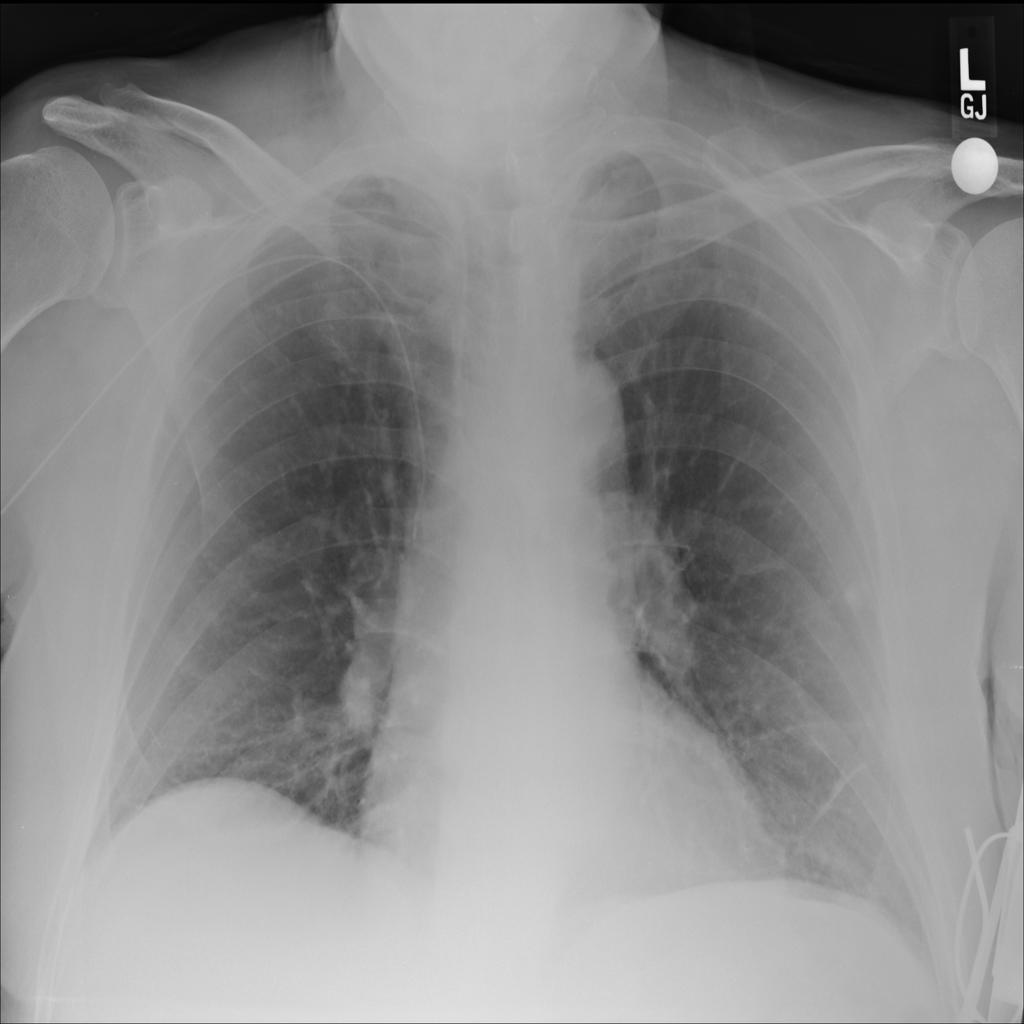nodule: (820, 554, 882, 637)
